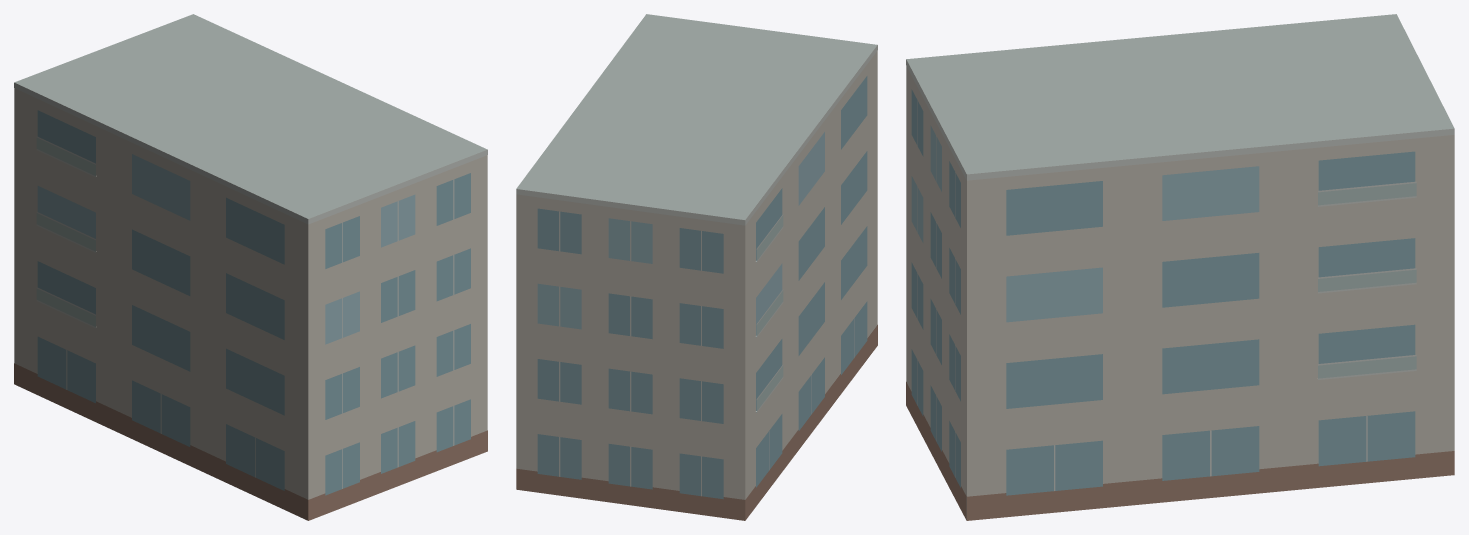
File: survey-upis-32818955.glb
The picture shows the model from 3 angles, left to right: view 1: azimuth 30°, elevation 25°; view 2: azimuth 150°, elevation 25°; view 3: azimuth 270°, elevation 25°; orthographic projection. The views are drawn at different scales.
Visible parts, largest first — view 1: survey-upis-32818955.tmp; view 2: survey-upis-32818955.tmp; view 3: survey-upis-32818955.tmp.
Boxes of the visible parts, x1,y1,x2,y2 form: survey-upis-32818955.tmp: (14, 14, 487, 520); survey-upis-32818955.tmp: (516, 14, 877, 520); survey-upis-32818955.tmp: (906, 14, 1454, 520).
Size of the model in its own units: 13.52 by 13.6 by 19.53.
